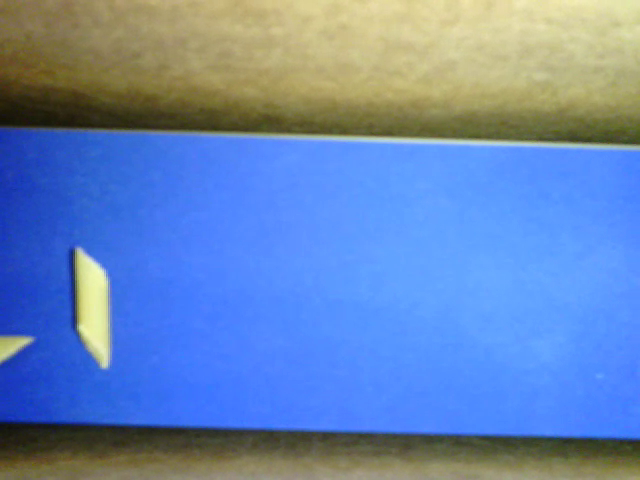penne: (76, 245, 111, 369)
